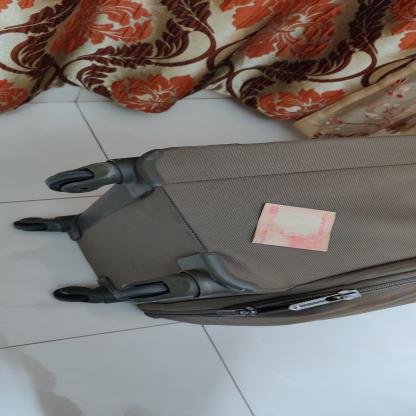Old20Back: (251, 202, 337, 251)
